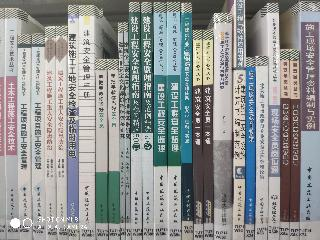book-spine: (300, 2, 320, 239), (79, 5, 96, 240), (215, 14, 231, 239), (232, 0, 247, 239), (168, 2, 181, 240), (129, 3, 142, 240), (267, 4, 280, 239), (6, 8, 19, 239), (32, 35, 46, 239), (155, 3, 167, 240), (181, 3, 193, 240), (19, 35, 32, 240), (142, 3, 153, 240), (107, 59, 120, 240), (57, 26, 68, 239), (69, 5, 79, 239), (46, 26, 56, 239), (193, 30, 203, 240), (256, 57, 267, 239), (96, 59, 107, 240), (280, 50, 290, 240), (204, 30, 213, 240), (290, 50, 300, 239), (246, 58, 255, 239), (118, 22, 125, 240), (123, 23, 130, 240)
